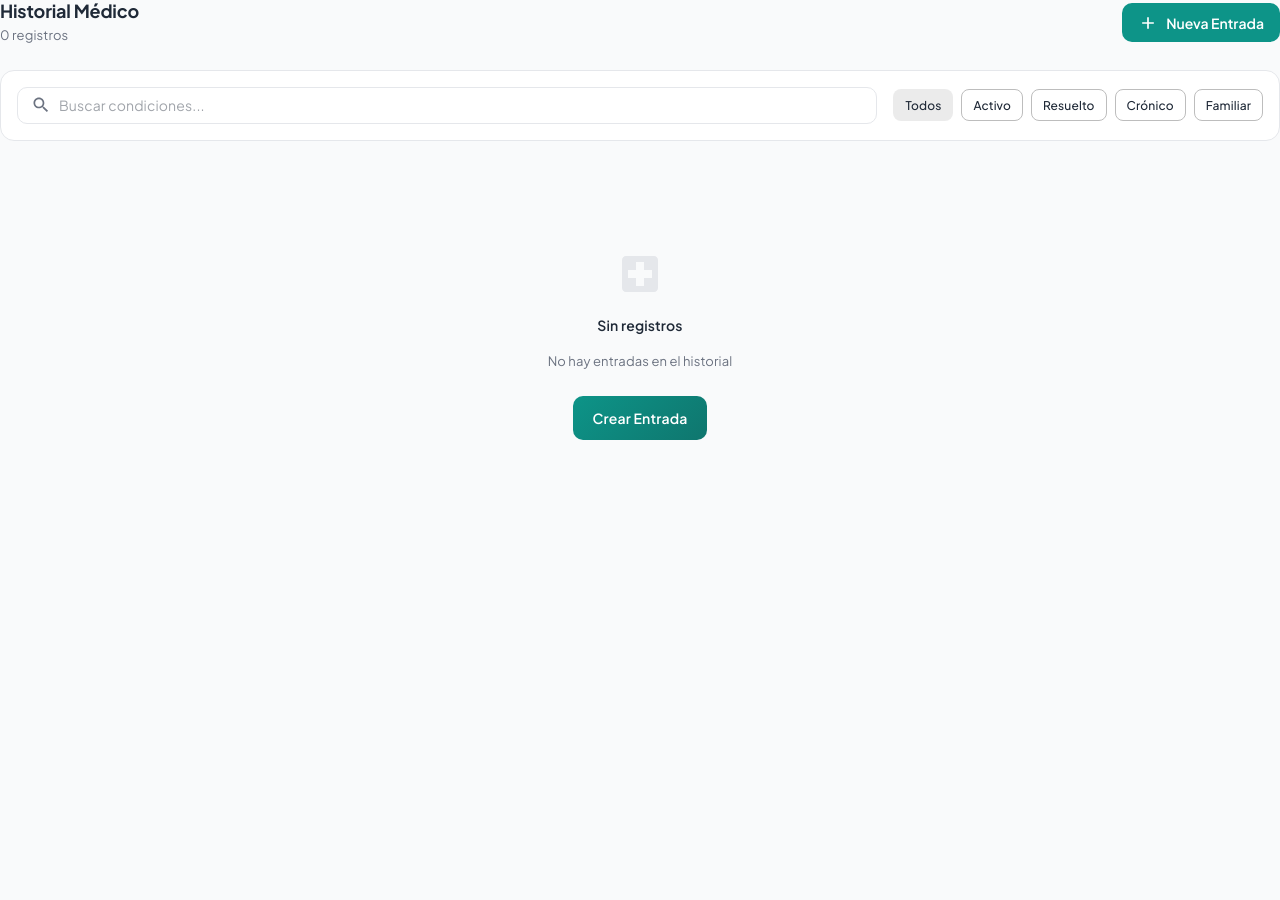
Test: MedicalHistoryPage › closes the dialog via the cancel button
Click the button "Nueva Entrada" at {"x": 1201, "y": 23}, box [1122,3,1279,42]
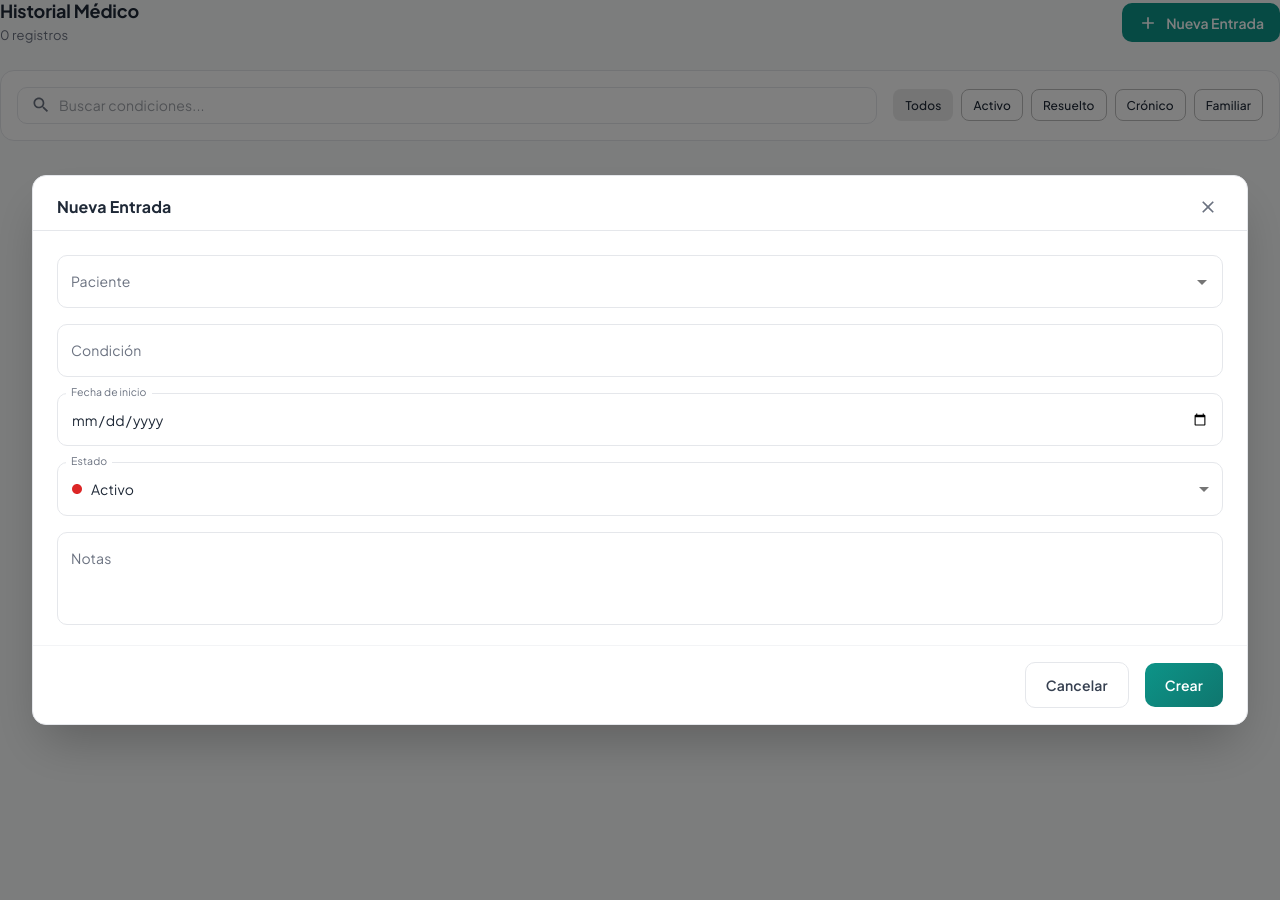
Click the button "Cancelar" at {"x": 1077, "y": 685}, box [1025,662,1129,708]
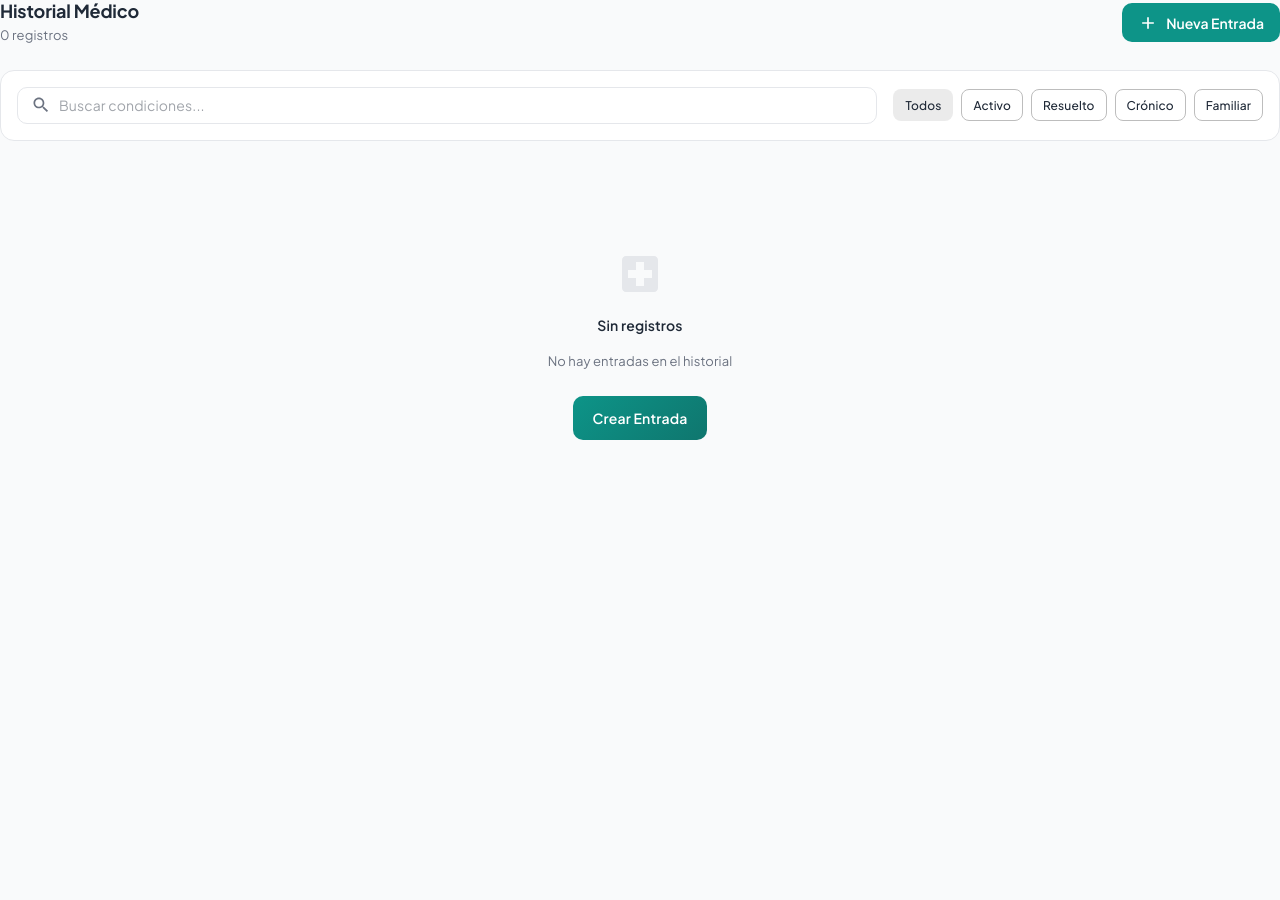
expect the dialog is gone: met
